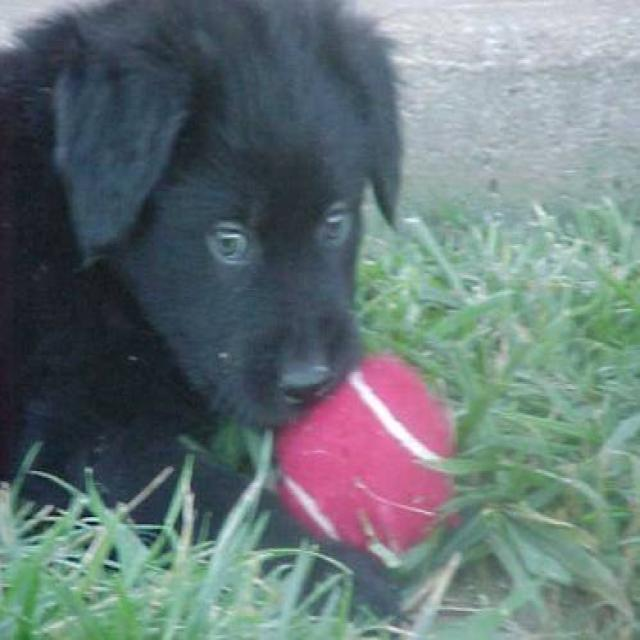dog: (0, 0, 408, 616)
